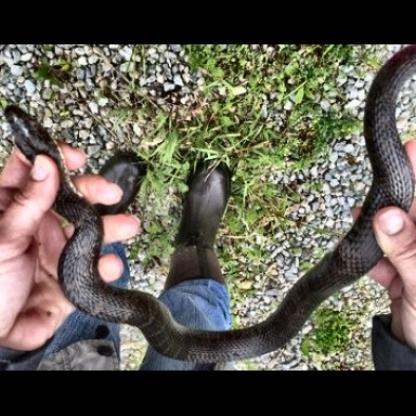Snake: (12, 59, 416, 353)
